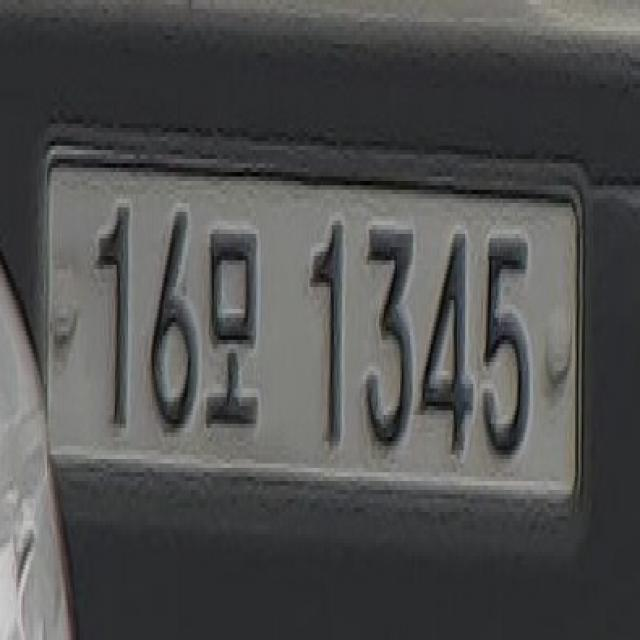1: (90, 190, 138, 450), (303, 212, 350, 463)
3: (358, 212, 415, 468)
4: (421, 216, 473, 468)
5: (480, 217, 534, 472)
6: (149, 198, 199, 446)
license_plate: (36, 128, 591, 538)
mo: (204, 207, 266, 446)
